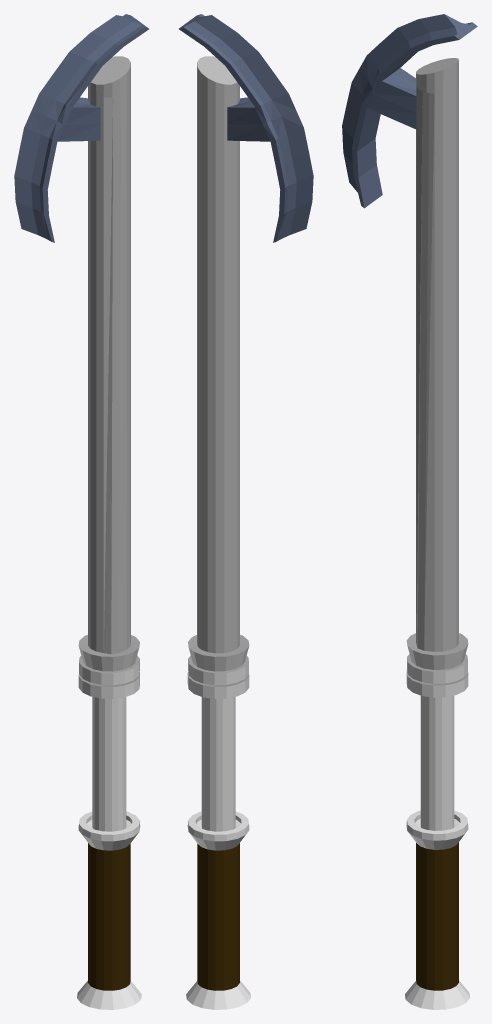
Rendered from Falx.fbx.
3 views of the same model, side by side, from view 1: azimuth 30°, elevation 25°; view 2: azimuth 150°, elevation 25°; view 3: azimuth 330°, elevation 25° (orthographic).
Visible parts, largest first — view 1: Falx; view 2: Falx; view 3: Falx.
Part boxes in pixels (left/top/right/bottom): Falx: left=14, top=14, right=148, bottom=1009; Falx: left=179, top=14, right=313, bottom=1009; Falx: left=342, top=14, right=477, bottom=1009.
Size of the model in its own units: 0.3222 by 2.39 by 0.1453.
